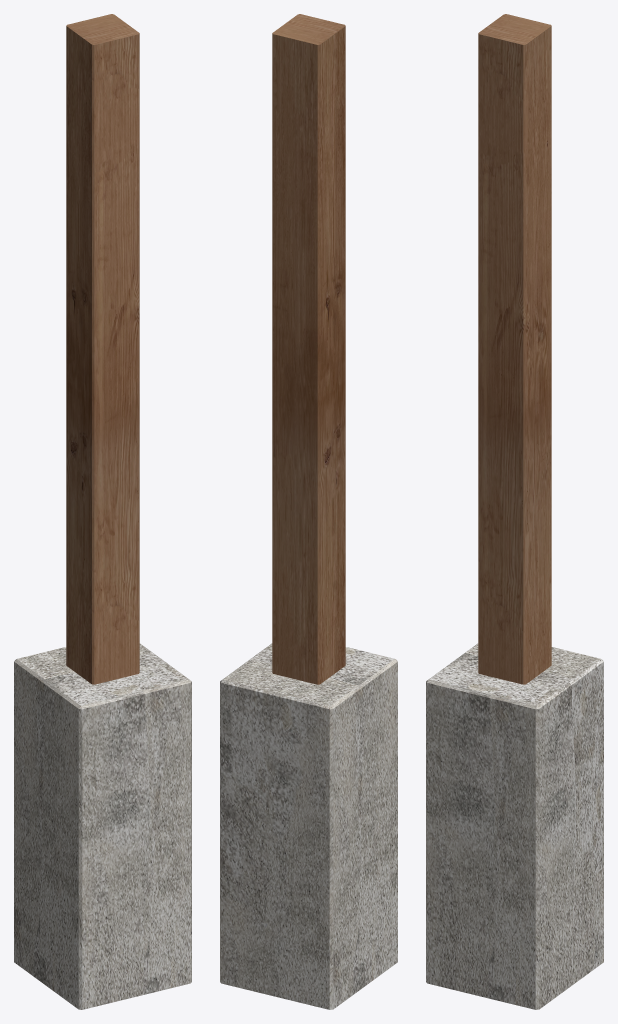
The model's file is SM_JSH_PillarD.fbx.
3 views of the same model, side by side, from view 1: azimuth 30°, elevation 25°; view 2: azimuth 150°, elevation 25°; view 3: azimuth 330°, elevation 25° (orthographic).
Parts seen in each view (by area): view 1: SM_JSH_PillarD; view 2: SM_JSH_PillarD; view 3: SM_JSH_PillarD.
Part boxes in pixels (box(x1,y1,x2,y2)): SM_JSH_PillarD: box(14, 14, 191, 1009); SM_JSH_PillarD: box(220, 14, 397, 1009); SM_JSH_PillarD: box(426, 14, 603, 1009).
Size of the model in its own units: 50.07 by 51.44 by 398.
1 material, 1 textured.
